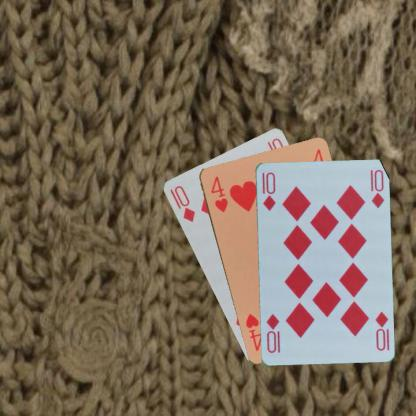10d: (167, 182, 196, 224), (259, 169, 277, 212), (372, 309, 389, 352)
4h: (207, 173, 229, 214)
